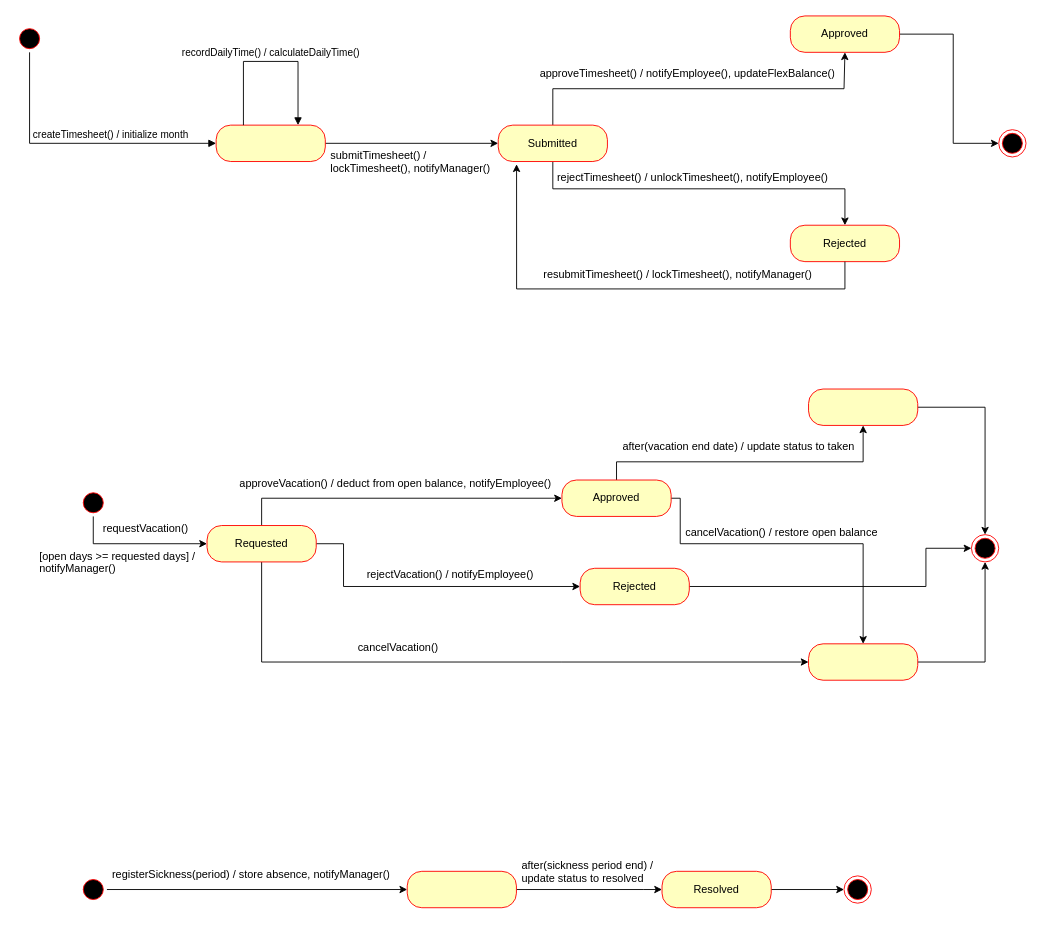
This 1042x931 diagram has some shape labels left out. Each missing label, with the centre of its shape:
Active: point (461, 889)
Cancelled: point (863, 661)
Open: point (270, 143)
Taken: point (863, 406)
